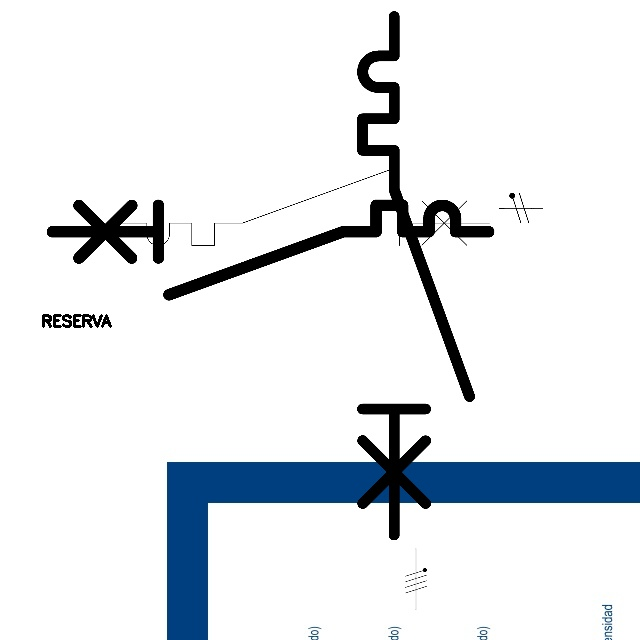interruptor_termomagnetico: (349, 3, 482, 549), (41, 194, 500, 306), (109, 160, 499, 255)
